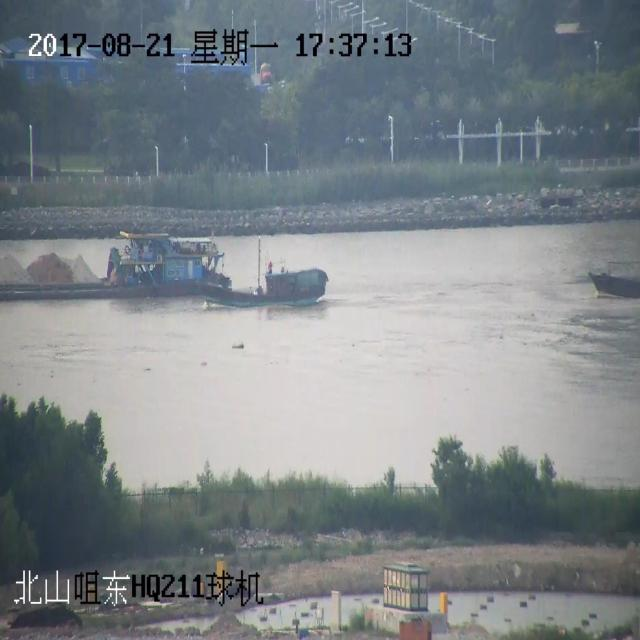cargoship: (0, 191, 215, 312)
fishing boat: (201, 235, 339, 316)
